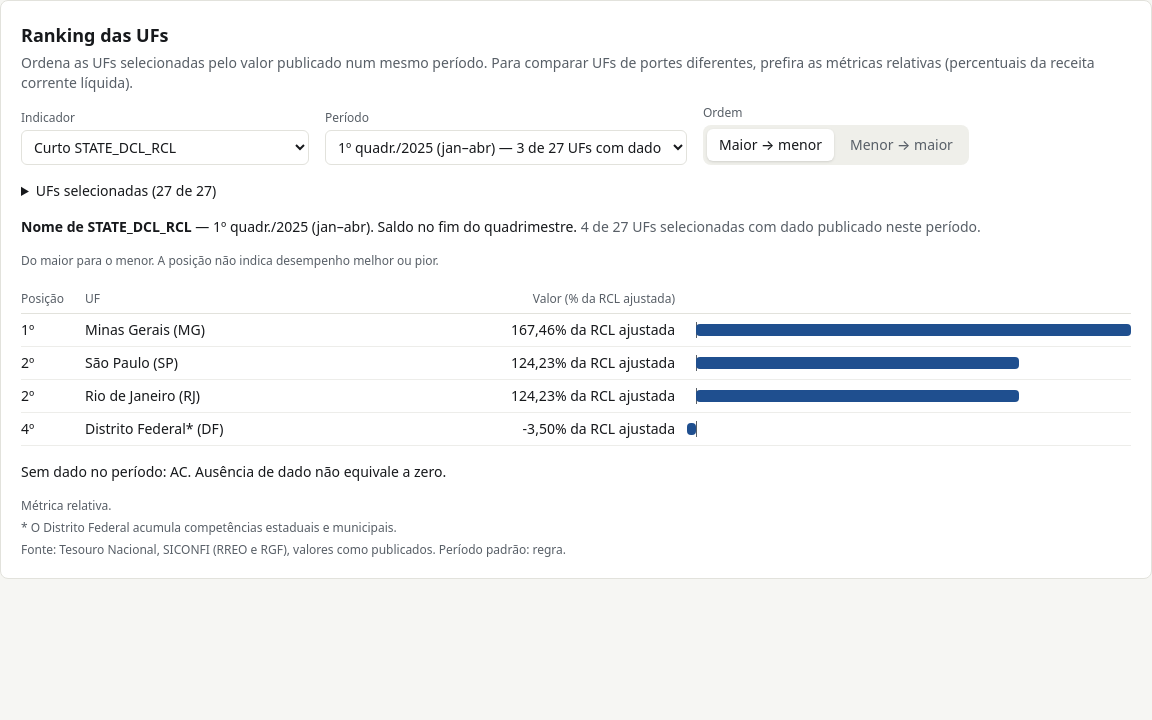
Test: StateRankingPanel errors › offers the default period when the chosen one has no value
This screenshot has width=1152, height=720.
Expected: the table is shown, [21,285,1131,446]
Select "Curto STATE_DC" in the dropdown labelled "Indicador". click: (165, 148)
box: [21,130,309,165]
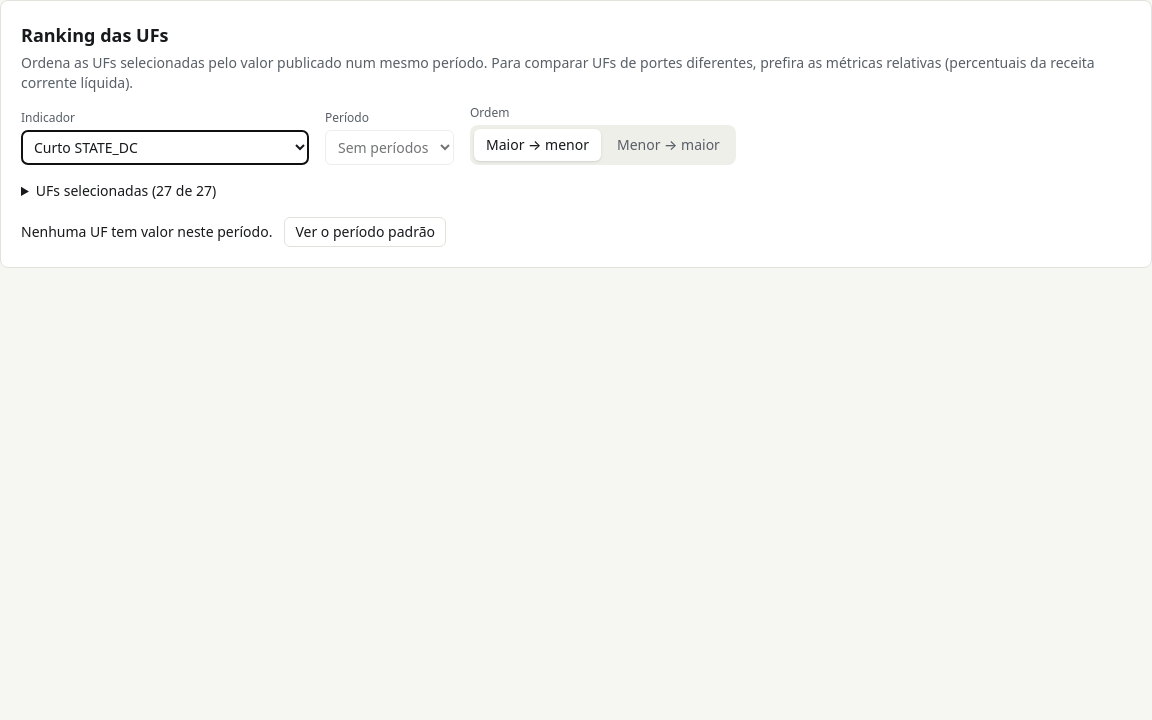
Now the text "Nenhuma UF tem valor neste período." is shown, box [21,222,272,242]
Click the button "Ver o período padrão". click: (365, 232)
box: [284,217,446,247]
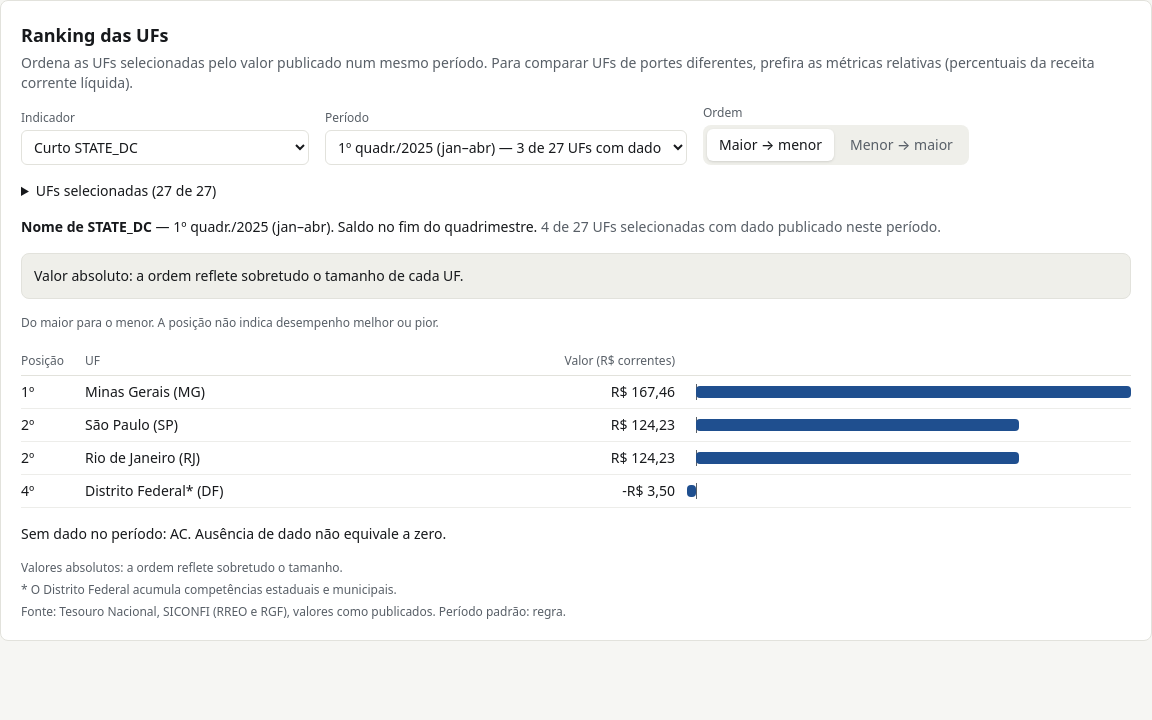
Now the table is shown, box [21,347,1131,508]
